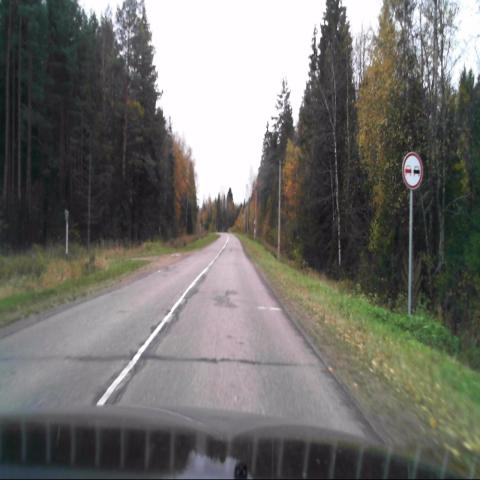3_20: (402, 151, 424, 189)
